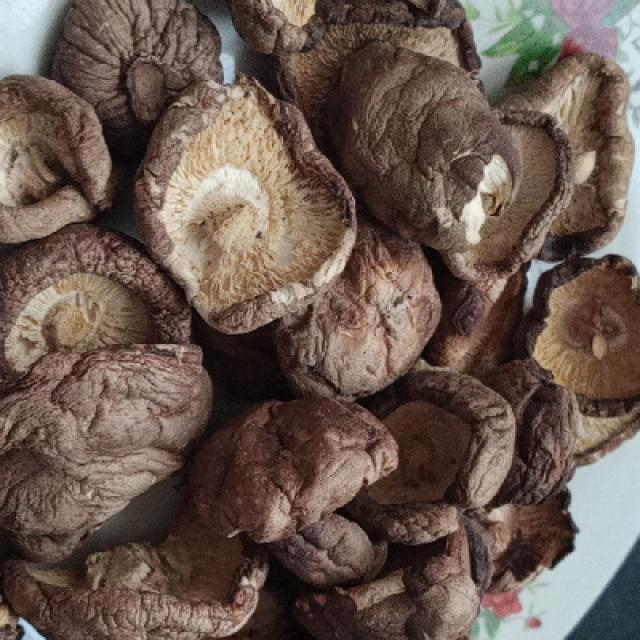Lentinus edodes: (143, 83, 361, 333), (0, 343, 211, 559), (0, 523, 266, 640), (192, 395, 400, 541), (334, 46, 498, 223), (0, 228, 188, 379), (46, 0, 226, 153), (360, 372, 517, 546), (521, 47, 631, 255), (448, 109, 579, 280), (526, 253, 640, 416), (0, 78, 111, 239)
